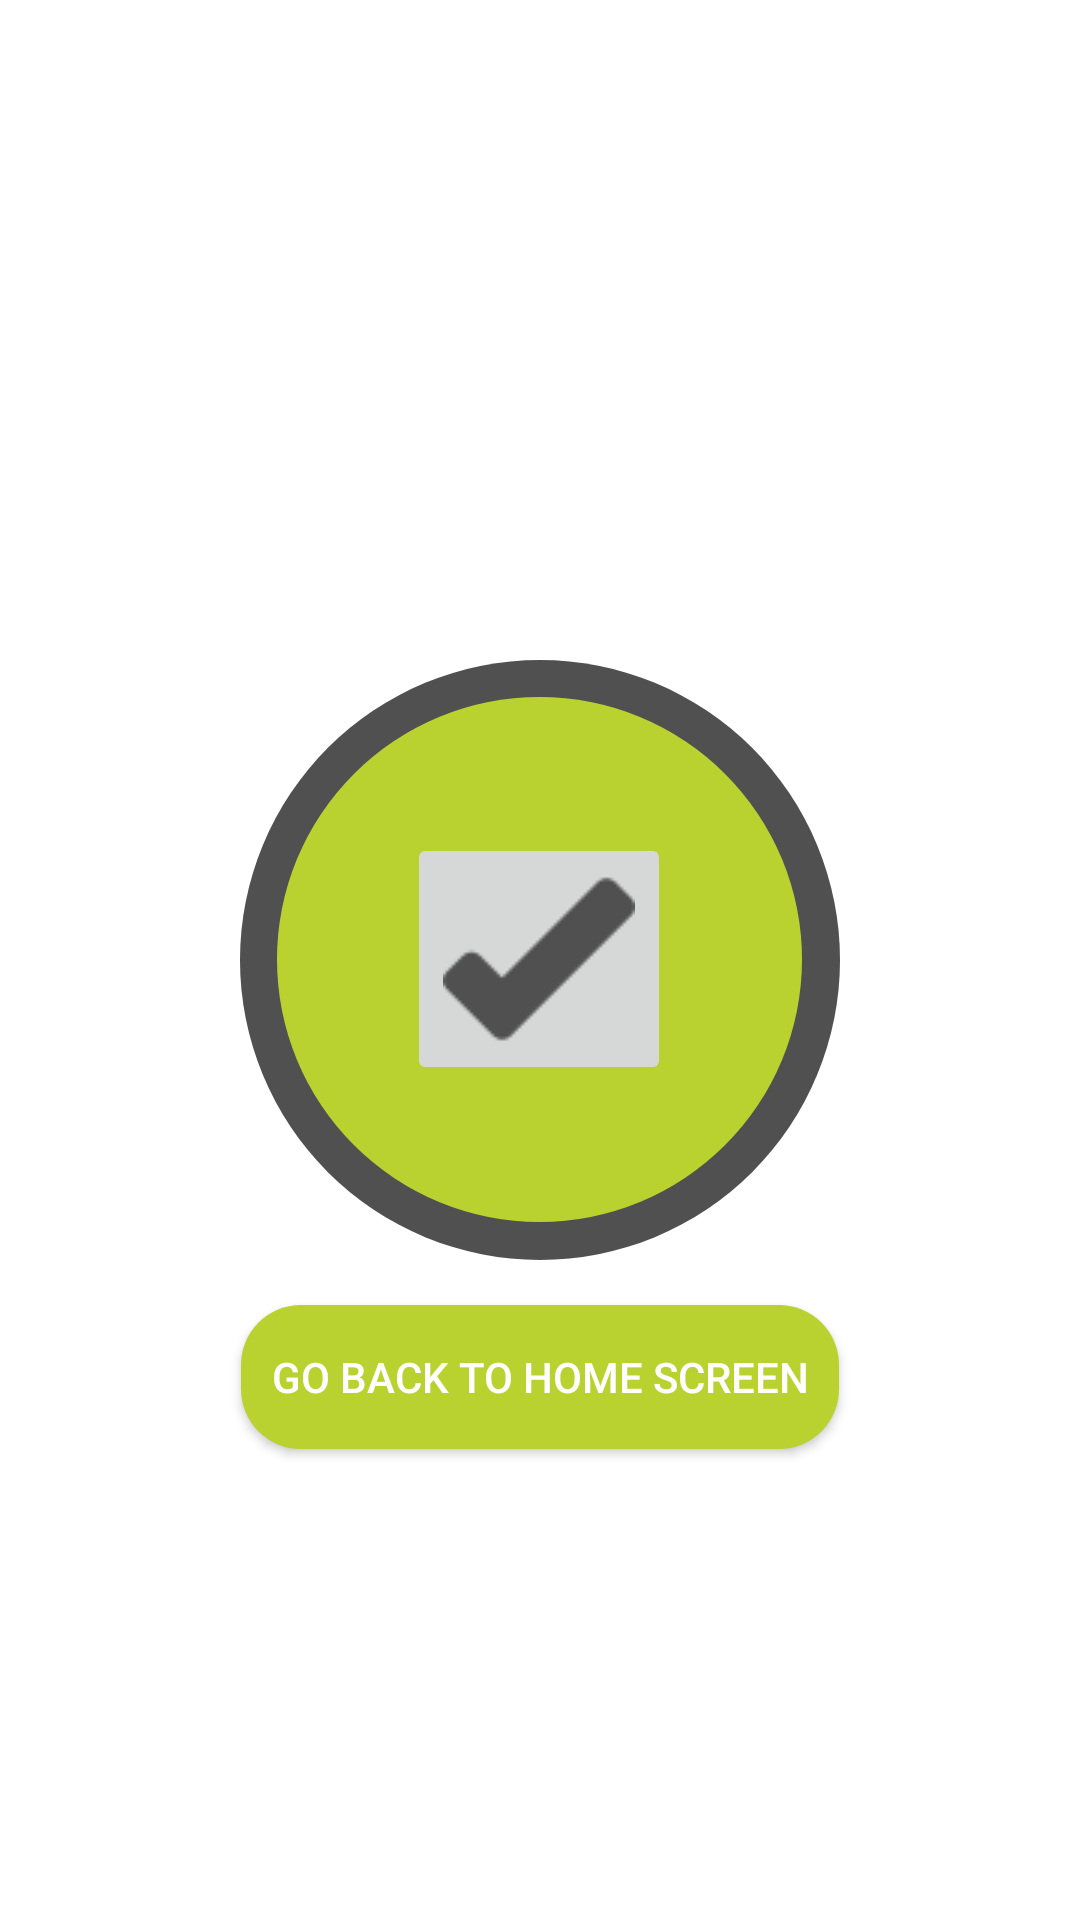

Icon bounding boxes for this 1080w x 1920h phone screenshot, format (x1, y1, x2, y2):
checkmark: (419, 851, 659, 1067)
